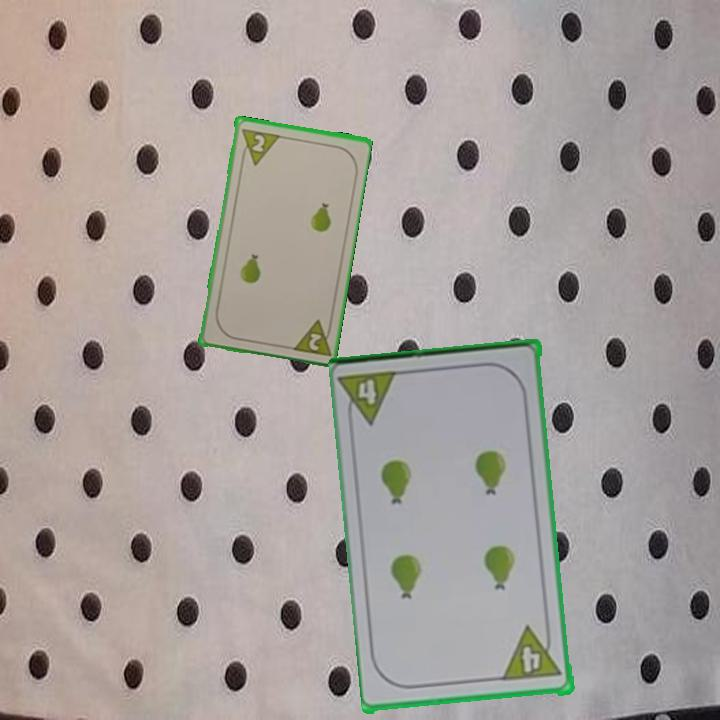2p: (288, 315, 335, 358), (237, 124, 281, 168)
4p: (338, 367, 404, 430), (500, 623, 565, 684)
